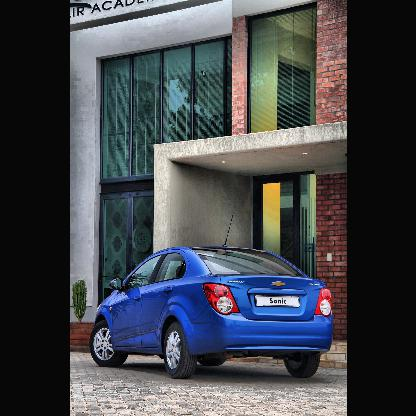Chevrolet Sonic Sedan 2012: (89, 245, 335, 379)
